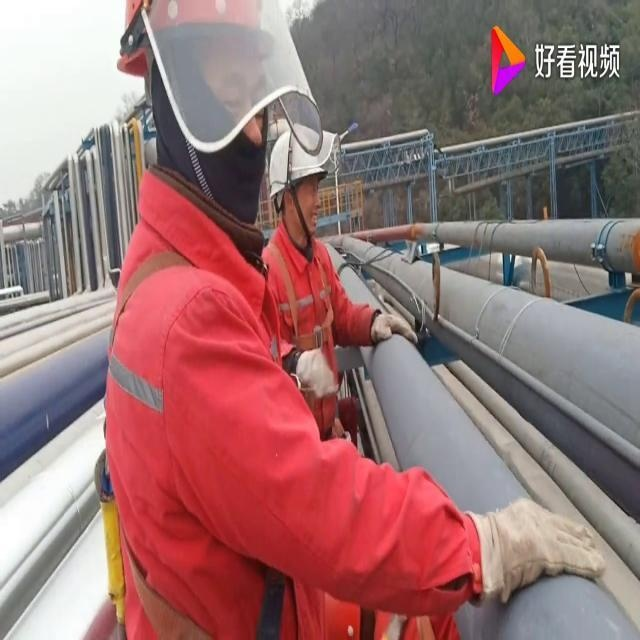Arnes_seguridad: (92, 234, 292, 639), (266, 232, 341, 363)
